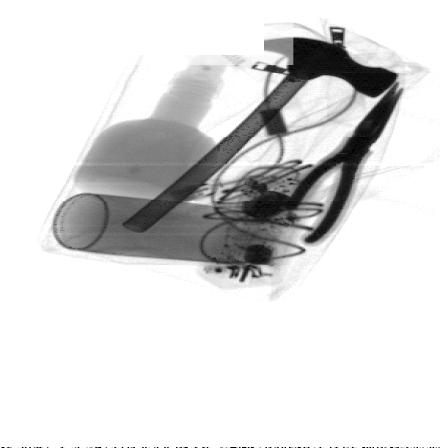Hammer: (124, 36, 403, 231)
Pliers: (282, 80, 405, 247)
